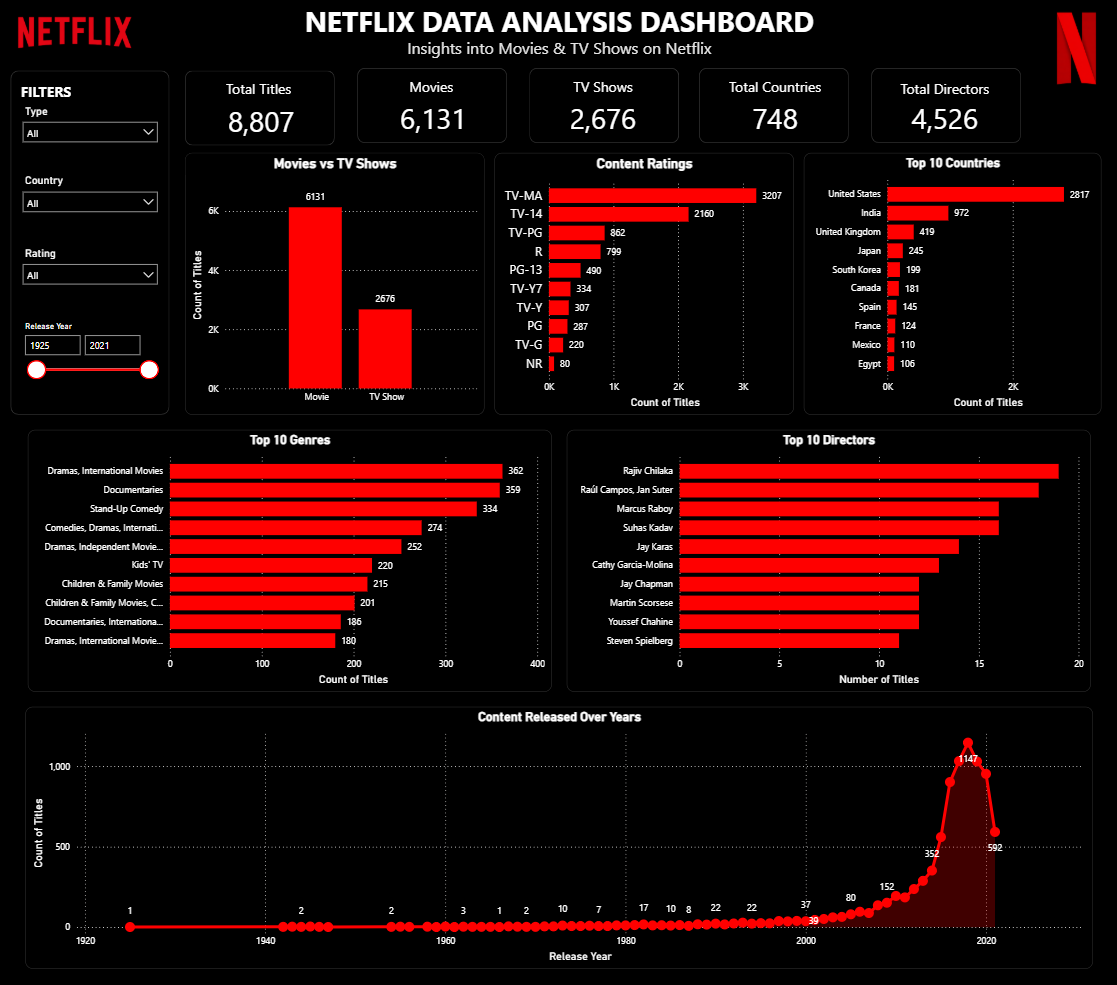

This screenshot's page, from the dashboard's own definition file:
{"tool":"powerbi","page":{"name":"Page 1","canvas":[1500,1320],"ordinal":0},"visuals":[{"type":"shape","box":[17.5,95,212.5,460],"z":0},{"type":"textbox","box":[250,0,1000,60],"z":1000},{"type":"shape","box":[251,96.2,200,100],"z":2000},{"type":"textbox","box":[250,45,1000,50],"z":3000},{"type":"image","box":[10,0,200,112.5],"z":4000},{"type":"image","box":[1365,12.5,135,112.5],"z":5000},{"type":"textbox","box":[273.5,102.1,150,35.7],"z":6000},{"type":"textbox","box":[275.3,132.4,150,60.7],"z":7000},{"type":"textbox","box":[19,102,89,47],"z":8000},{"type":"shape","box":[479.7,92.8,200,100],"z":9000},{"type":"shape","box":[937.2,92.8,200,100],"z":10000},{"type":"shape","box":[708.5,92.8,200,100],"z":11000},{"type":"shape","box":[1166,94,200,100],"z":12000},{"type":"slicer","fields":{"Values":["Sheet1.type"]},"box":[24.4,138.1,200,78.9],"z":13000},{"type":"slicer","fields":{"Values":["Sheet1.country"]},"box":[24.4,230.3,200,80],"z":14000},{"type":"slicer","fields":{"Values":["Sheet1.rating"]},"box":[24.4,327,200,80],"z":15000},{"type":"slicer","fields":{"Values":["Sheet1.release_year"]},"box":[24.4,428.1,200,98.9],"z":16000},{"type":"clusteredColumnChart","title":"Movies vs TV Shows","fields":{"Category":["Sheet1.type"],"Y":["CountNonNull(Sheet1.type)"]},"box":[250,206.8,400,350],"z":17000},{"type":"clusteredBarChart","title":"Content Ratings","fields":{"Category":["Sheet1.rating"],"Y":["CountNonNull(Sheet1.rating)"]},"box":[662.5,206.8,400,350],"z":18000},{"type":"clusteredBarChart","title":"Top 10 Countries","fields":{"Category":["Sheet1.country"],"Y":["CountNonNull(Sheet1.country)"]},"box":[1075,206.8,397.7,350],"z":19000},{"type":"textbox","box":[504.4,100,151.1,35.6],"z":20000},{"type":"textbox","box":[505,130,150,60],"z":21000},{"type":"textbox","box":[733.3,100,150,35],"z":22000},{"type":"textbox","box":[732.5,130,150,60],"z":23000},{"type":"clusteredBarChart","title":"Top 10 Genres","fields":{"Category":["Sheet1.listed_in"],"Y":["CountNonNull(Sheet1.listed_in)"]},"box":[38.6,577.3,700,350],"z":24000},{"type":"lineChart","title":"Content Released Over Years","fields":{"Category":["Sheet1.release_year"],"Y":["CountNonNull(Sheet1.show_id)"]},"box":[36,946,1426,350],"z":25000},{"type":"clusteredBarChart","title":"Top 10 Directors","fields":{"Category":["Sheet1.director"],"Y":["CountNonNull(Sheet1.director)"]},"box":[759.1,577.3,700,350],"z":26000},{"type":"textbox","box":[962.5,100,150,35],"z":27000},{"type":"textbox","box":[962.5,130,150,60],"z":28000},{"type":"textbox","box":[1191.2,102.5,150,35],"z":29000},{"type":"textbox","box":[1191.2,131.2,150,60],"z":30000}]}

Visuals, with their boxes in screenshot pixels (x1, y1, x2, y2), scaled from the page's 1500x1320 canvas onto the 1117x985 screenshot:
shape: x1=13 y1=71 x2=171 y2=414
textbox: x1=186 y1=0 x2=931 y2=45
shape: x1=187 y1=72 x2=336 y2=146
textbox: x1=186 y1=34 x2=931 y2=71
image: x1=7 y1=0 x2=156 y2=84
image: x1=1016 y1=9 x2=1116 y2=93
textbox: x1=204 y1=76 x2=315 y2=103
textbox: x1=205 y1=99 x2=317 y2=144
textbox: x1=14 y1=76 x2=80 y2=111
shape: x1=357 y1=69 x2=506 y2=144
shape: x1=698 y1=69 x2=847 y2=144
shape: x1=528 y1=69 x2=677 y2=144
shape: x1=868 y1=70 x2=1017 y2=145
slicer - Sheet1.type: x1=18 y1=103 x2=167 y2=162
slicer - Sheet1.country: x1=18 y1=172 x2=167 y2=232
slicer - Sheet1.rating: x1=18 y1=244 x2=167 y2=304
slicer - Sheet1.release_year: x1=18 y1=319 x2=167 y2=393
"Movies vs TV Shows" clusteredColumnChart: x1=186 y1=154 x2=484 y2=415
"Content Ratings" clusteredBarChart: x1=493 y1=154 x2=791 y2=415
"Top 10 Countries" clusteredBarChart: x1=801 y1=154 x2=1097 y2=415
textbox: x1=376 y1=75 x2=488 y2=101
textbox: x1=376 y1=97 x2=488 y2=142
textbox: x1=546 y1=75 x2=658 y2=101
textbox: x1=545 y1=97 x2=657 y2=142
"Top 10 Genres" clusteredBarChart: x1=29 y1=431 x2=550 y2=692
"Content Released Over Years" lineChart: x1=27 y1=706 x2=1089 y2=967
"Top 10 Directors" clusteredBarChart: x1=565 y1=431 x2=1087 y2=692
textbox: x1=717 y1=75 x2=828 y2=101
textbox: x1=717 y1=97 x2=828 y2=142
textbox: x1=887 y1=76 x2=999 y2=103
textbox: x1=887 y1=98 x2=999 y2=143
